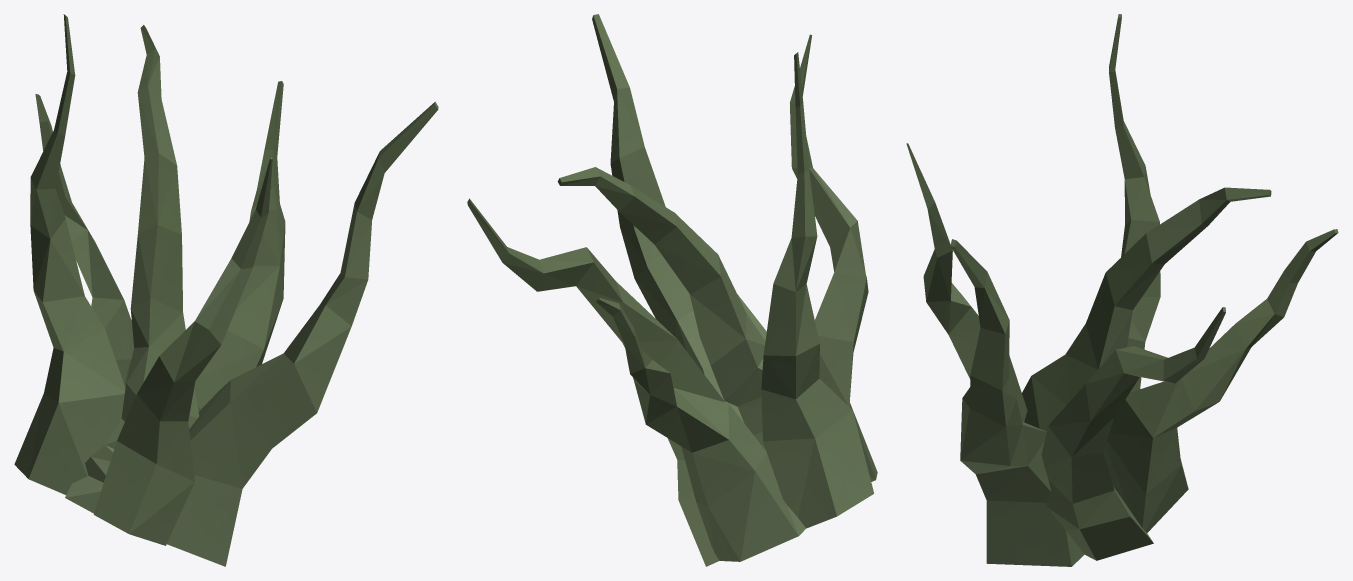
File: grass_green_6.obj
3 renders of one model, left to right at view 1: azimuth 30°, elevation 25°; view 2: azimuth 150°, elevation 25°; view 3: azimuth 270°, elevation 25°, orthographic. The views are drawn at different scales.
Parts seen in each view (by area): view 1: grass_green_6_Mesh; view 2: grass_green_6_Mesh; view 3: grass_green_6_Mesh.
Part boxes in pixels (x1,y1,x2,y2): grass_green_6_Mesh: (14, 14, 438, 566); grass_green_6_Mesh: (467, 14, 877, 566); grass_green_6_Mesh: (906, 14, 1338, 566).
Bounding box in the file's own units: 0.2476 × 0.3614 × 0.2785.
